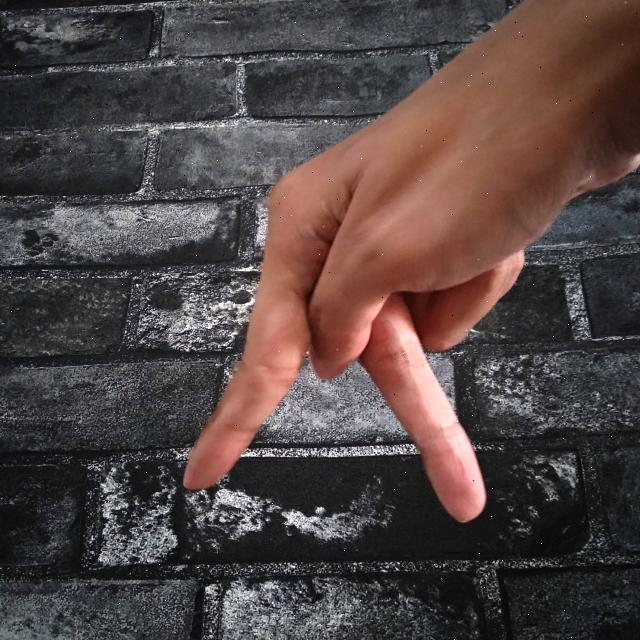P: (173, 0, 640, 535)
